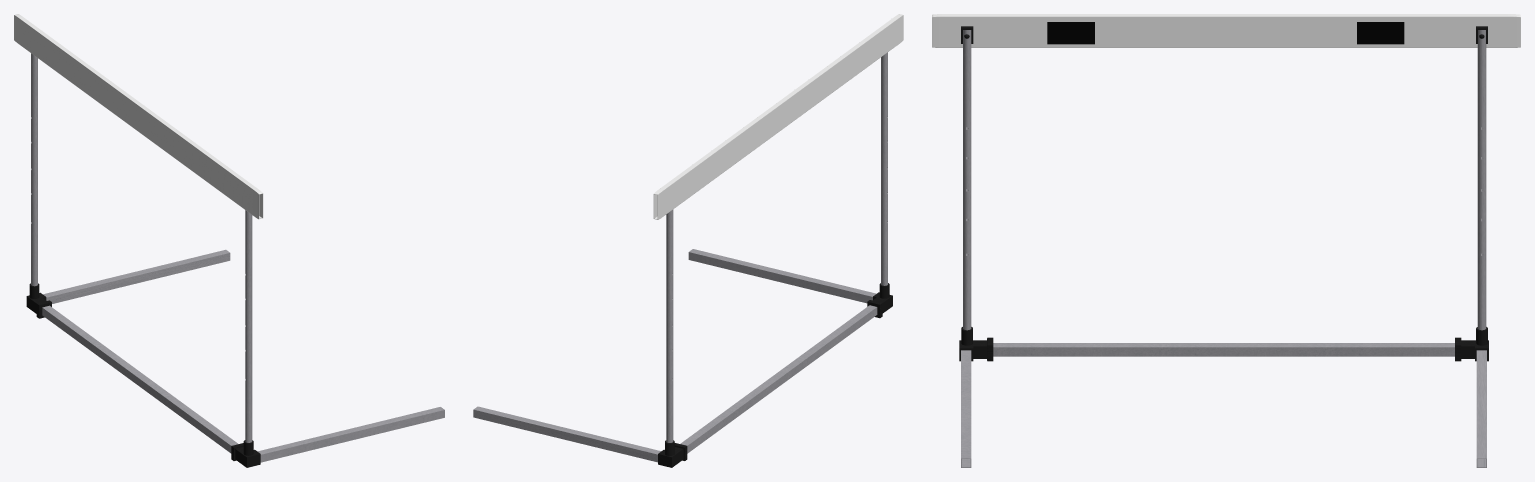
Rendered from Alloy Hurdle.fbx.
3 renders of one model, left to right at view 1: azimuth 30°, elevation 25°; view 2: azimuth 150°, elevation 25°; view 3: azimuth 270°, elevation 25°, orthographic. The views are drawn at different scales.
Visible parts, largest first — view 1: Cube.007, Cube.002, Cube.001, Cube.004, Cylinder, Cylinder.002, Cube; view 2: Cube.007, Cube.002, Cube.004, Cube.001, Cylinder.002, Cylinder, Cube.003; view 3: Cube.007, Cube.002, Cylinder.002, Cylinder, Cube.001, Cube.004, Plane, Plane.001.
Boxes of the visible parts, left/top/right/bottom form: Cube.007: left=14, top=14, right=263, bottom=219; Cube.002: left=42, top=305, right=238, bottom=453; Cube.001: left=257, top=407, right=444, bottom=462; Cube.004: left=43, top=249, right=230, bottom=303; Cylinder: left=245, top=210, right=252, bottom=442; Cylinder.002: left=31, top=53, right=37, bottom=286; Cube: left=231, top=443, right=260, bottom=467; Cube.007: left=653, top=14, right=903, bottom=219; Cube.002: left=680, top=305, right=877, bottom=453; Cube.004: left=473, top=406, right=661, bottom=462; Cube.001: left=688, top=249, right=876, bottom=303; Cylinder.002: left=666, top=209, right=673, bottom=442; Cylinder: left=881, top=52, right=887, bottom=285; Cube.003: left=658, top=443, right=687, bottom=467; Cube.007: left=932, top=14, right=1520, bottom=47; Cube.002: left=993, top=343, right=1454, bottom=356; Cylinder.002: left=1477, top=30, right=1486, bottom=330; Cylinder: left=963, top=30, right=971, bottom=330; Cube.001: left=961, top=350, right=971, bottom=467; Cube.004: left=1476, top=350, right=1486, bottom=467; Plane: left=1047, top=22, right=1094, bottom=44; Plane.001: left=1357, top=22, right=1404, bottom=44.
Size of the model in its own units: 169 by 229 by 359.
4 materials, 3 textured.
